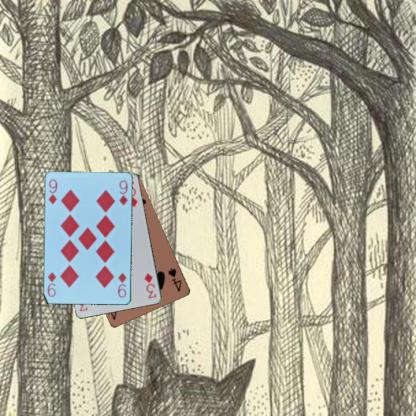3d: (142, 270, 158, 300)
4s: (166, 266, 183, 293)
9d: (46, 176, 58, 206), (116, 270, 128, 299)
